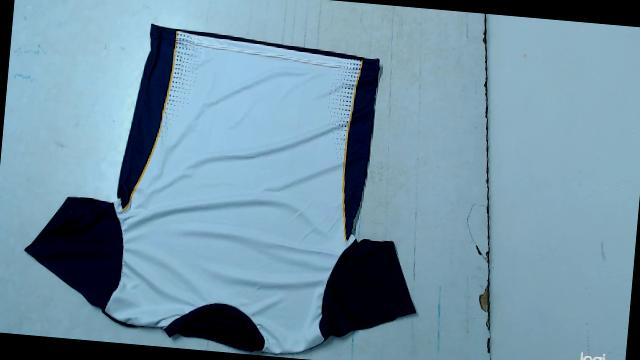new-garment: (25, 25, 415, 353)
